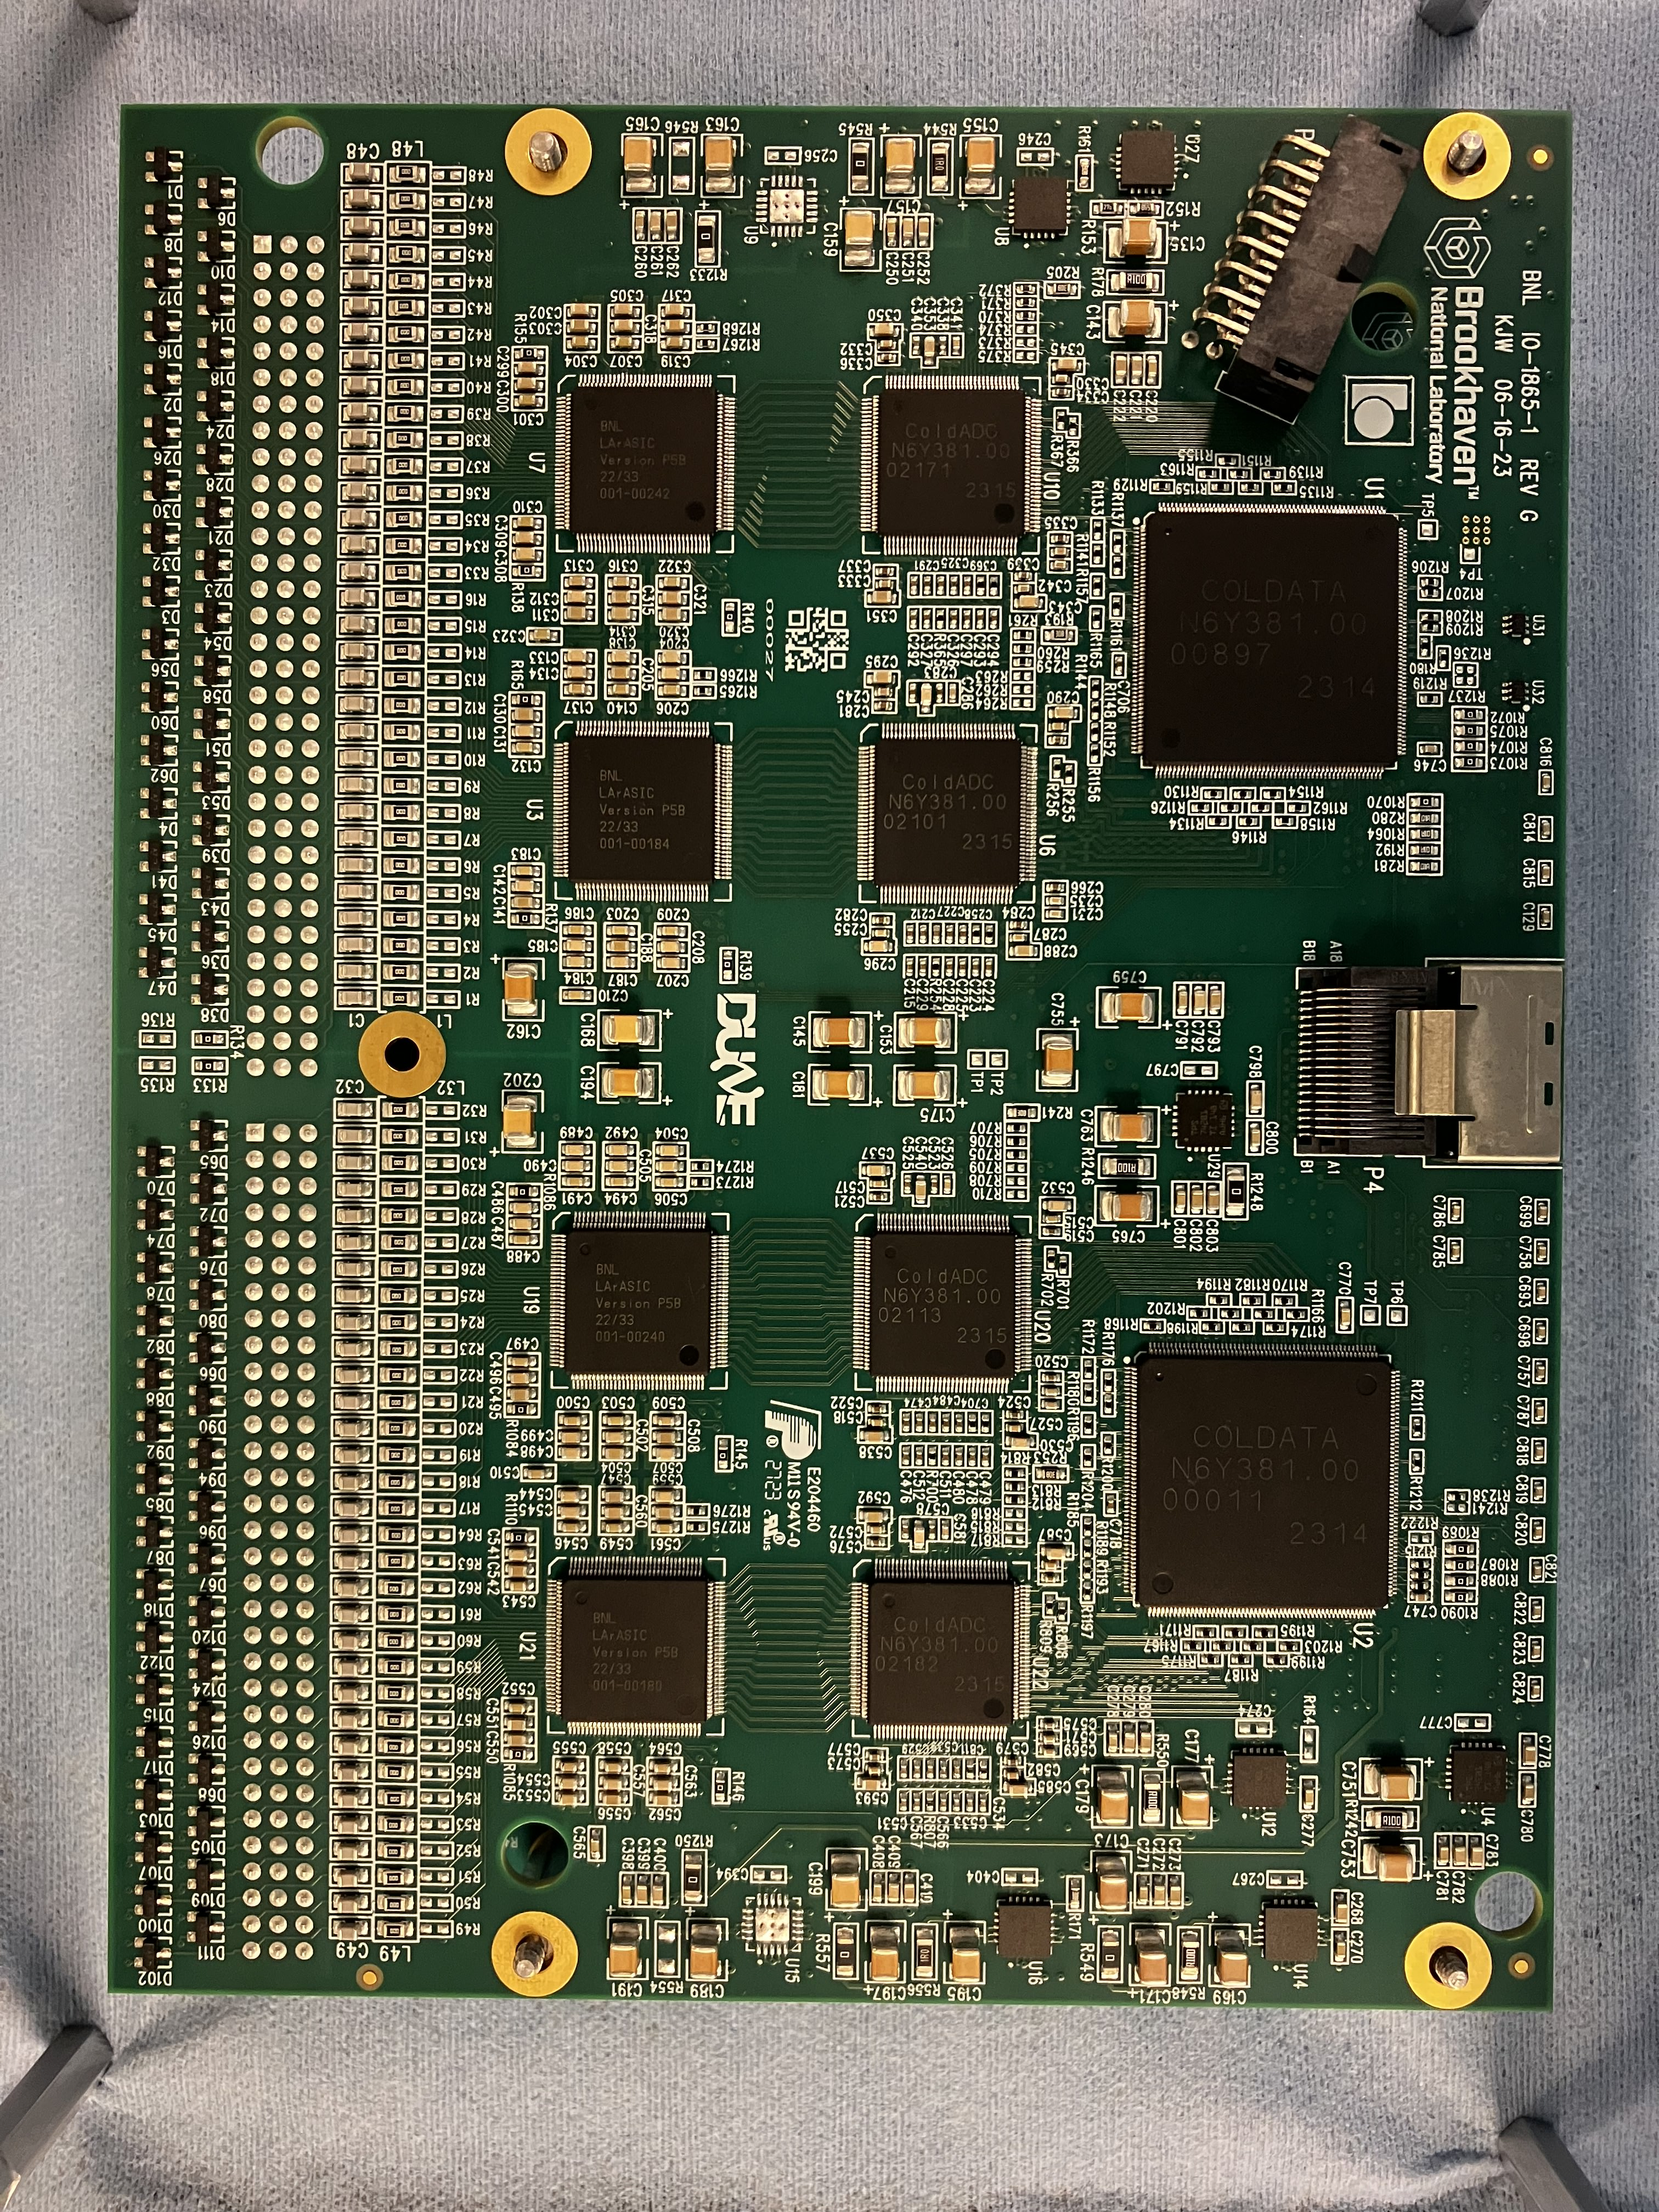chip: (1141, 510, 1398, 768), (1136, 1353, 1391, 1611), (880, 387, 1025, 535), (870, 1230, 1014, 1378), (866, 1573, 1011, 1721), (572, 388, 716, 535), (568, 737, 713, 883), (875, 735, 1019, 881), (566, 1228, 711, 1374), (561, 1575, 706, 1721)
